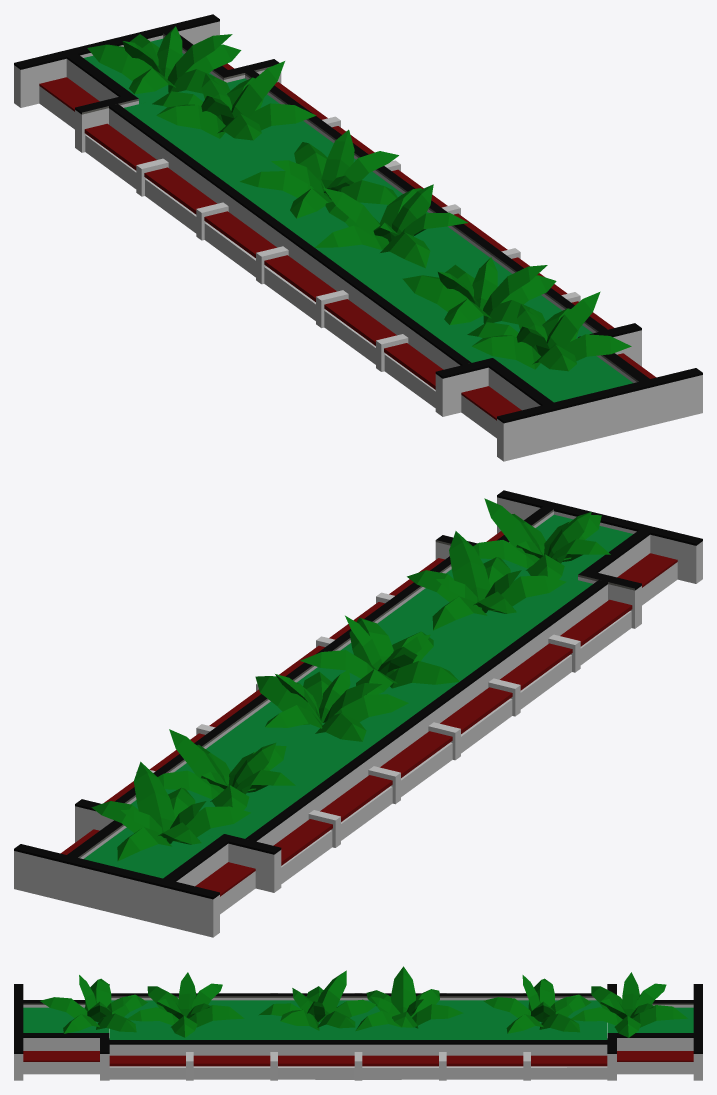
Rendered from Park-04.fbx.
The picture shows the model from 3 angles, top to bottom: view 1: azimuth 30°, elevation 25°; view 2: azimuth 150°, elevation 25°; view 3: azimuth 270°, elevation 25°; orthographic projection. The views are drawn at different scales.
Parts seen in each view (by area): view 1: Park-04; view 2: Park-04; view 3: Park-04.
Part boxes in pixels (x1=…): Park-04: x1=14, y1=14, x2=702, y2=461; Park-04: x1=14, y1=490, x2=702, y2=937; Park-04: x1=14, y1=966, x2=702, y2=1080.
Size of what is drawn, in the model's own units: 4.23 by 1.76 by 17.99.
